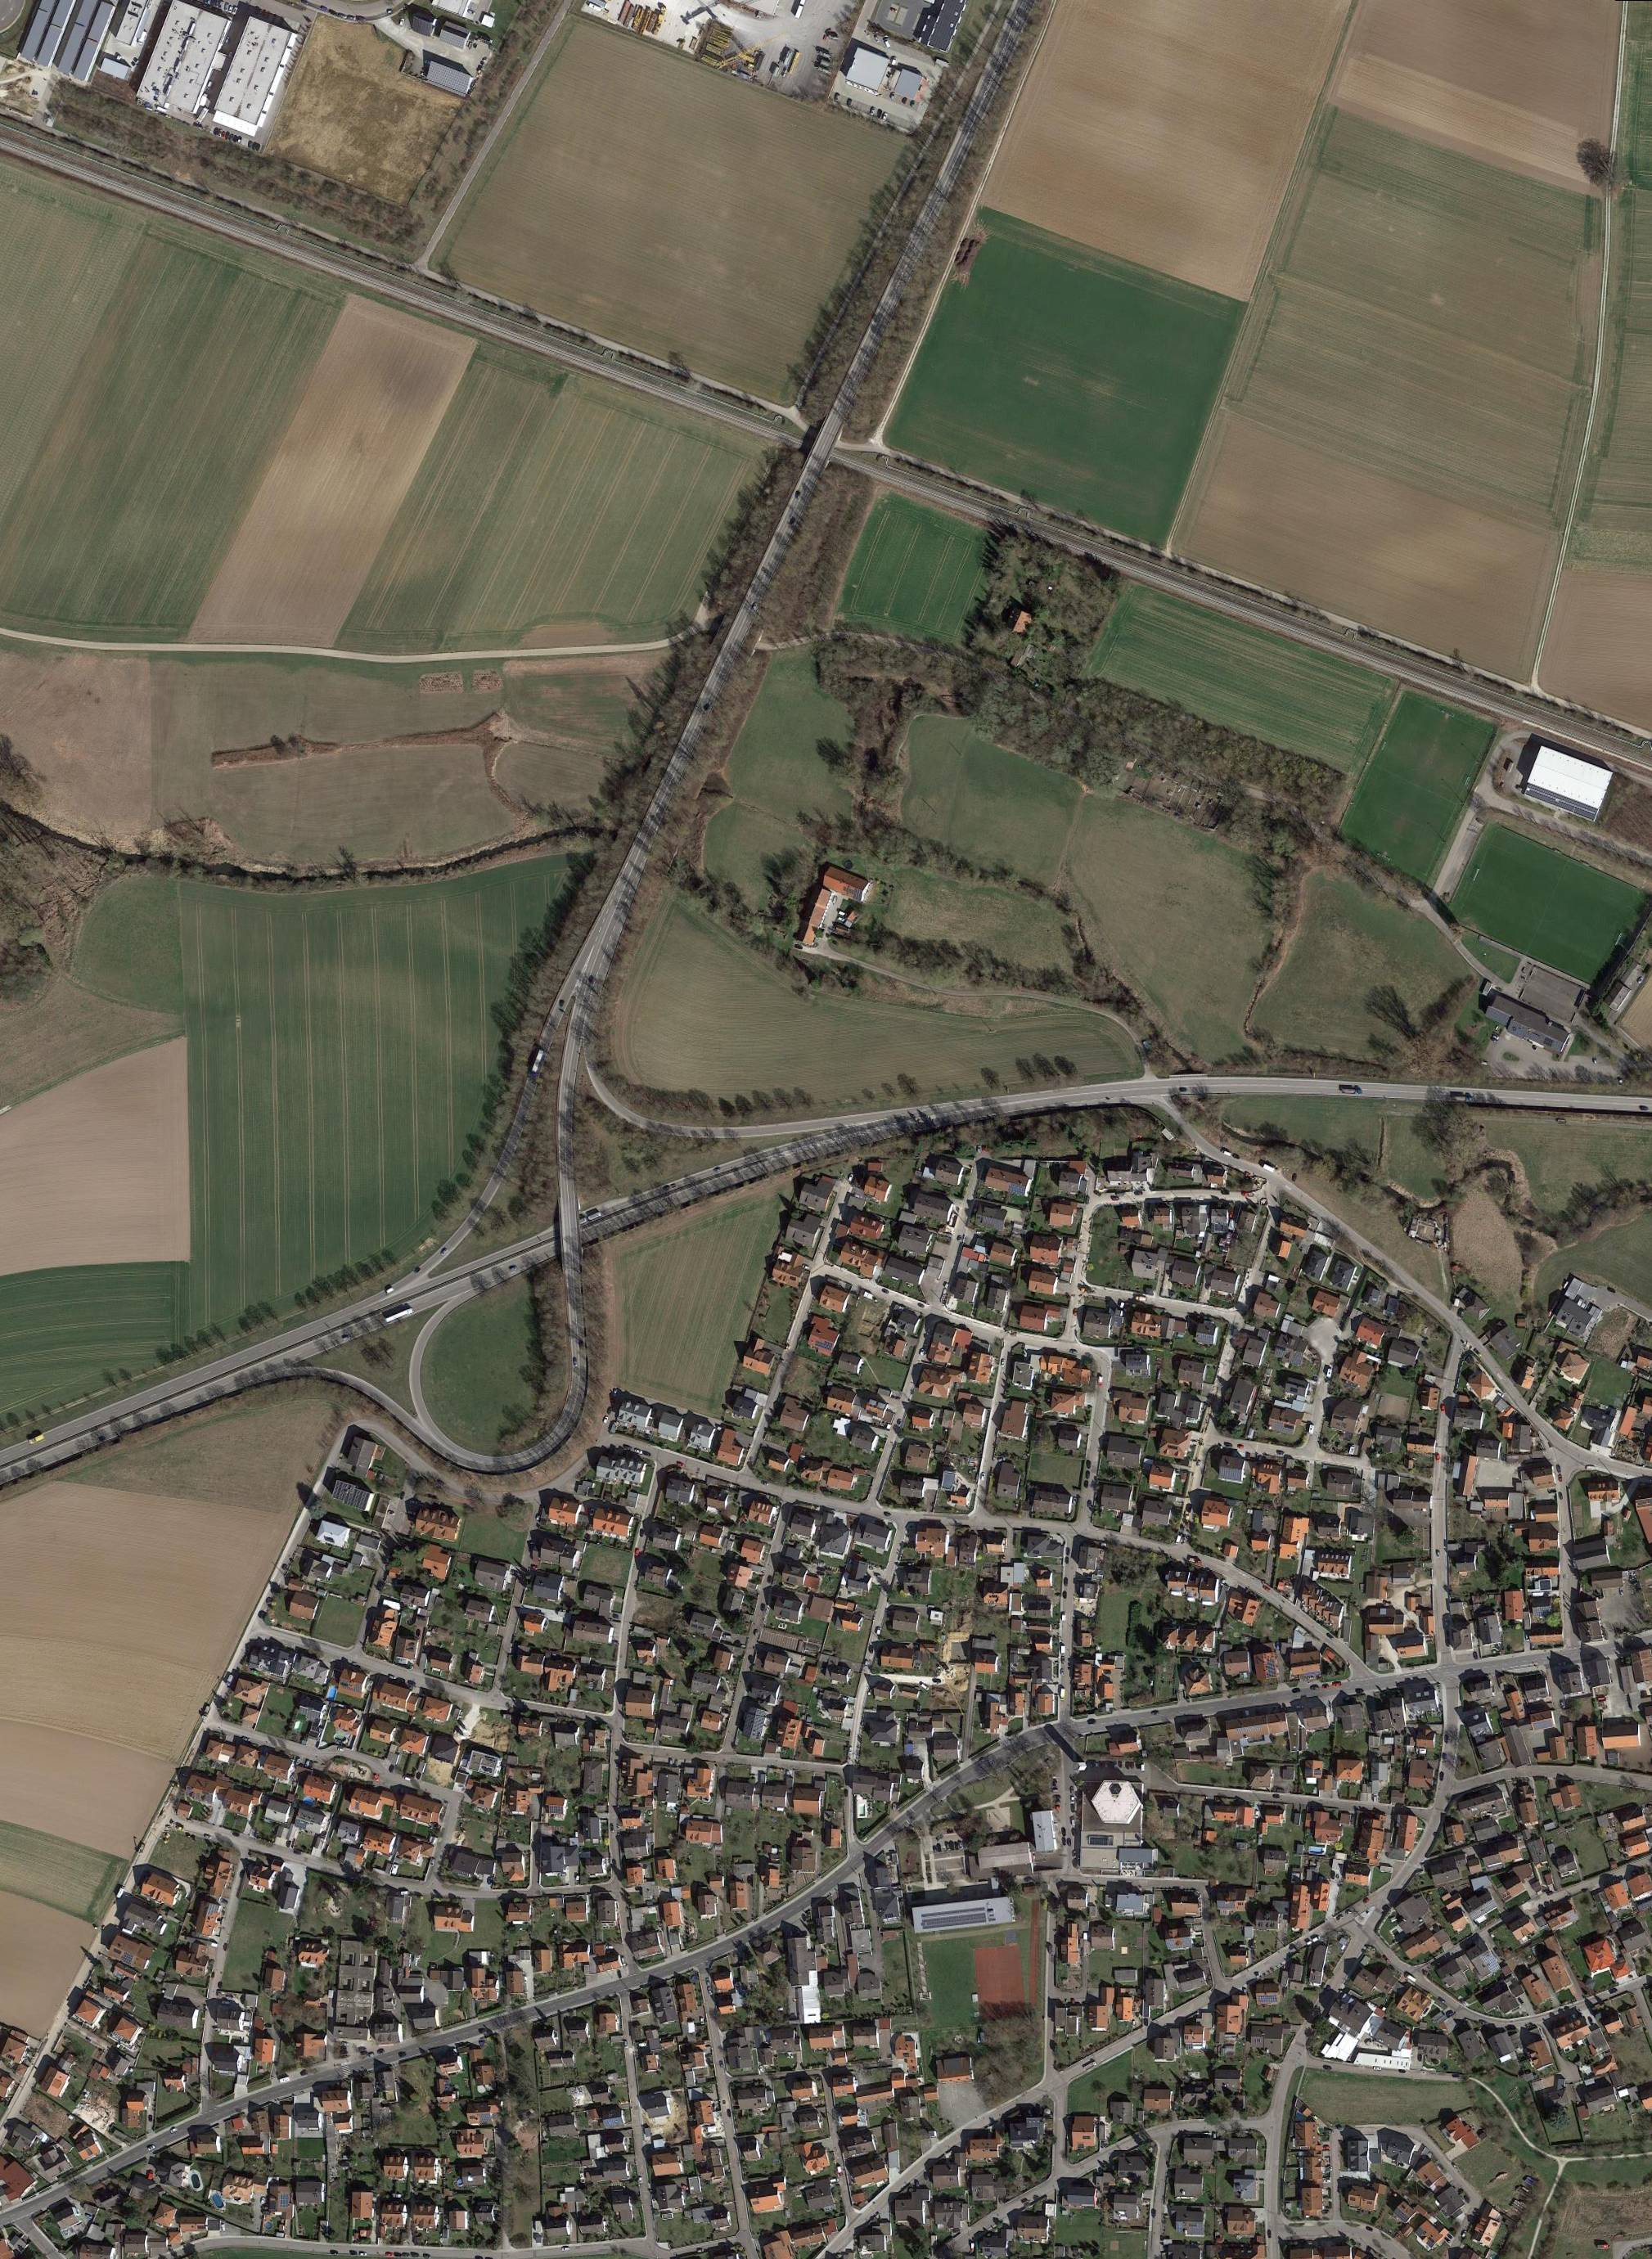tennis court: (973, 1945, 1026, 2020)
